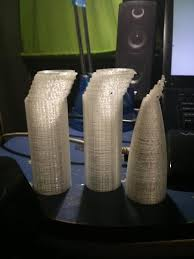fail: (80, 63, 135, 99), (27, 63, 76, 101), (147, 69, 170, 106)
